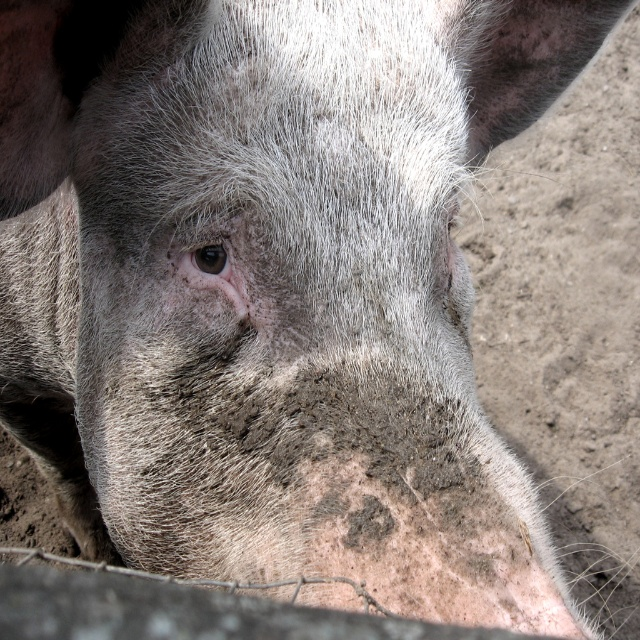Pig: (0, 1, 640, 640)
